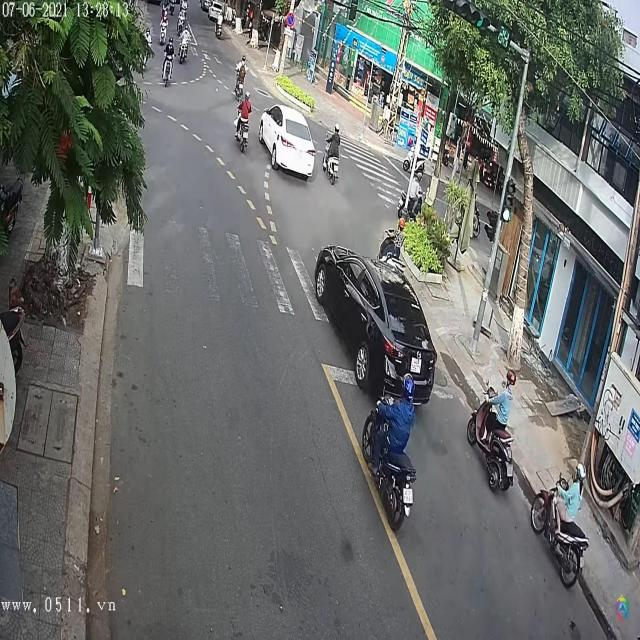car: (312, 239, 441, 405), (260, 107, 319, 181)
motorcycle: (363, 384, 418, 537), (529, 462, 592, 590), (462, 363, 519, 495), (323, 125, 343, 186), (162, 40, 177, 90), (235, 113, 252, 155), (235, 58, 247, 101)
